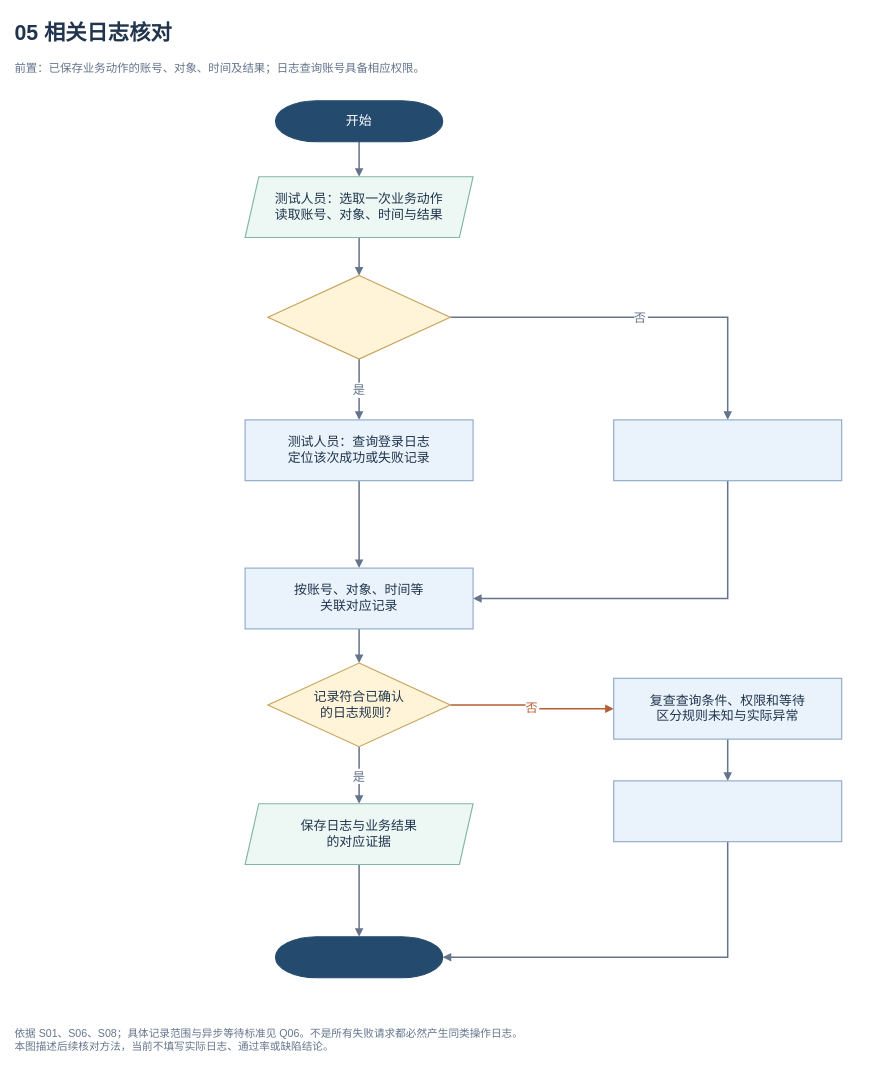
Some shapes in this 869 by 1079 pixel diagram are drawn without their labels. Here are the shapes that lost their labels. From the top down, the centre of each, then its label:
(359,317): 本次是登录行为？
(727,450): 测试人员：查询操作日志 仅核对已纳入记录的动作
(727,811): 记录证据与待确认问题 规则明确的异常再报告
(359,957): 结束
